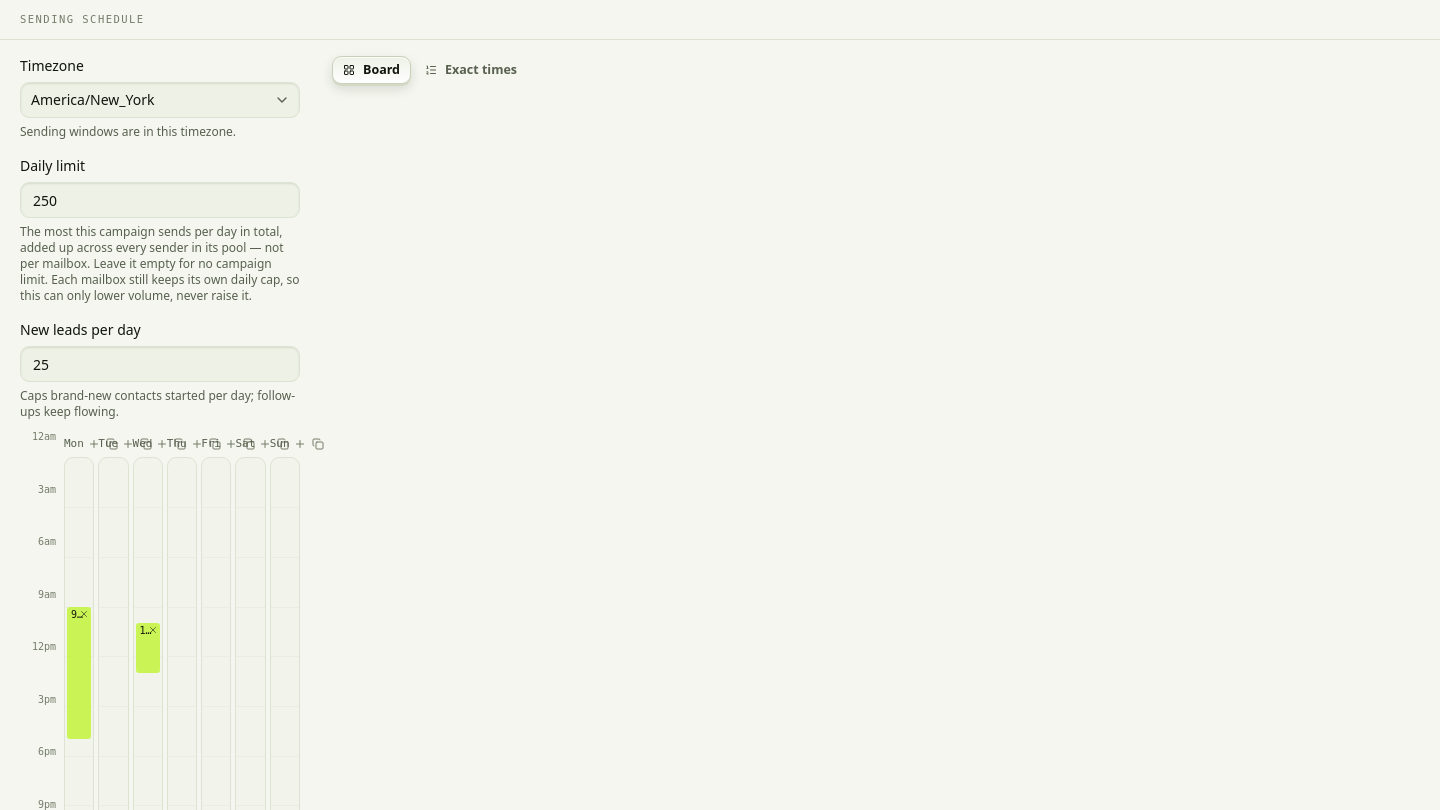
Test case: SchedulePanel › the save action only appears once something is edited
Click the button "Exact times". click: [471, 70]
box: [415,56,527,84]
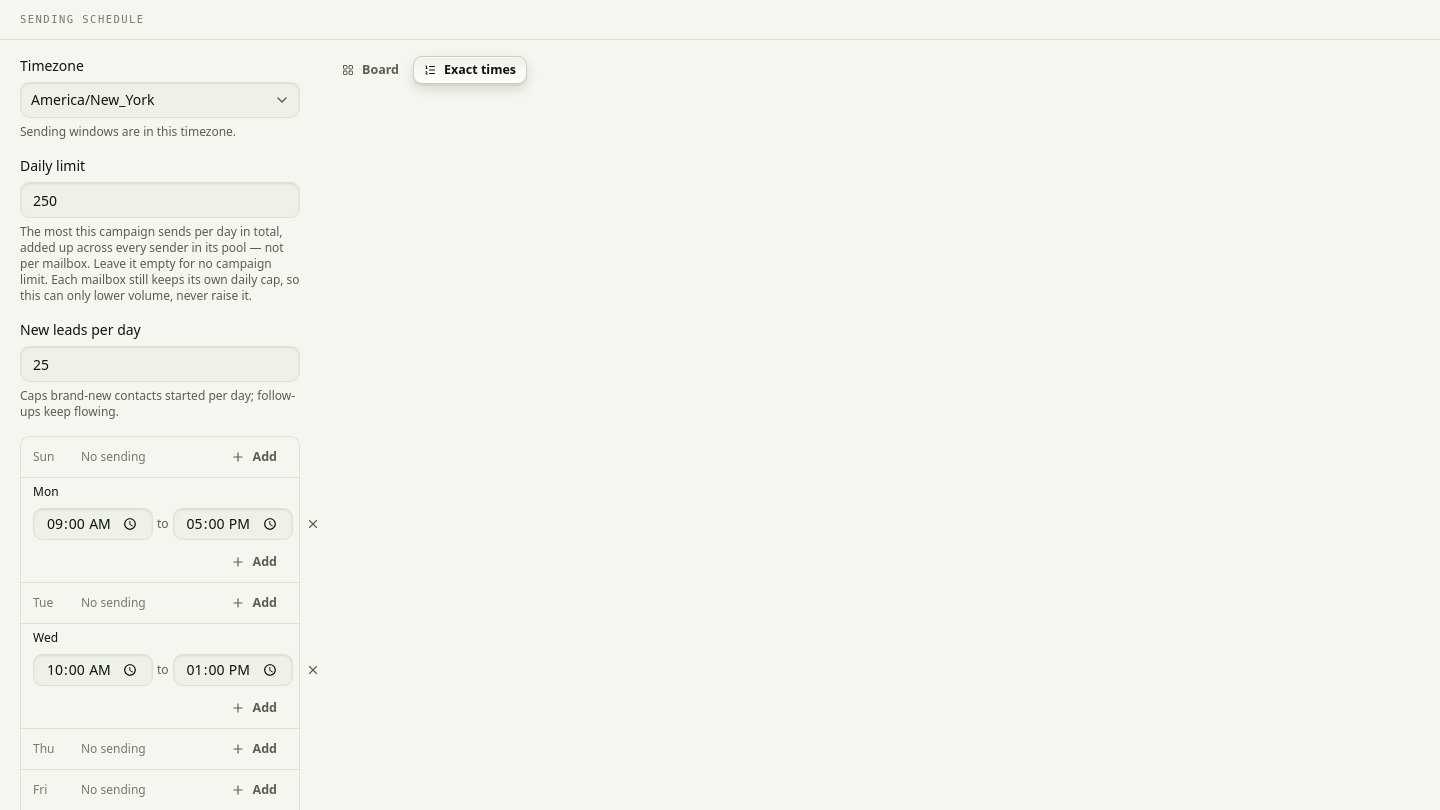
Check: the button "save schedule" is not shown
Check: the time field named "Mon window 1 start" is shown
Replace the text in the time field named "Mon window 1 start" with "10:30". click: [93, 524]
box: [33,508,153,540]
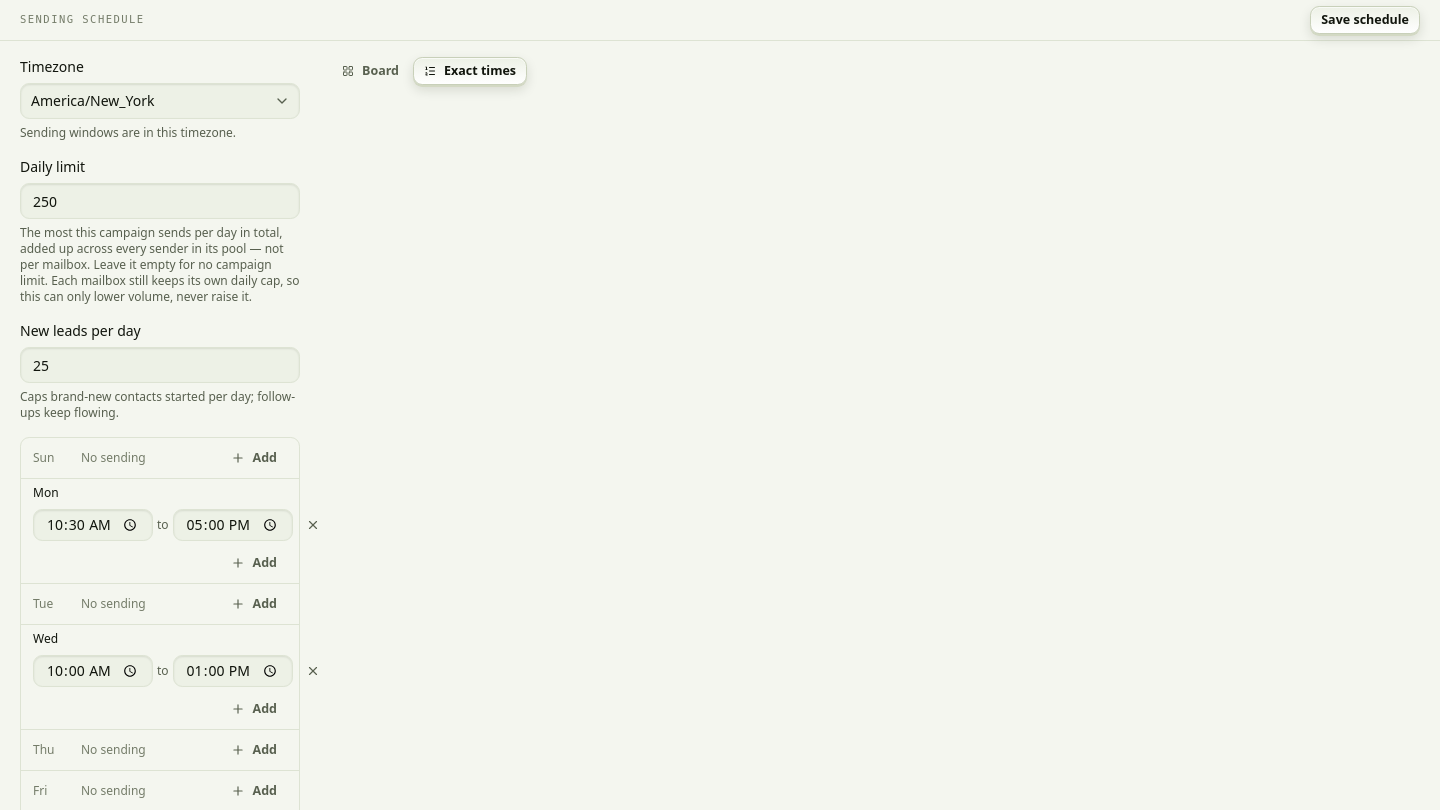
Check: the button "Save schedule" is shown, box [1310,6,1420,34]
